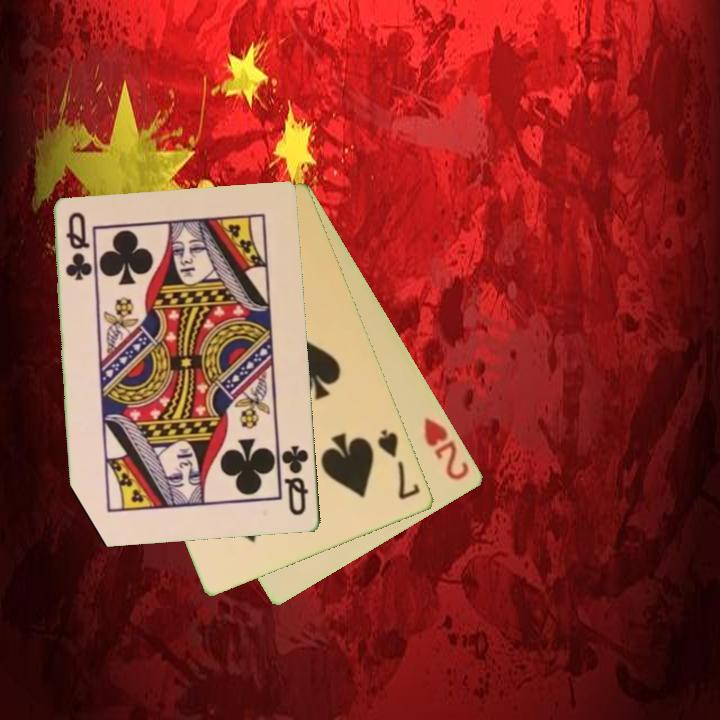2h: (421, 413, 473, 484)
7s: (374, 426, 424, 503)
Qc: (278, 442, 312, 519), (62, 209, 93, 284)
